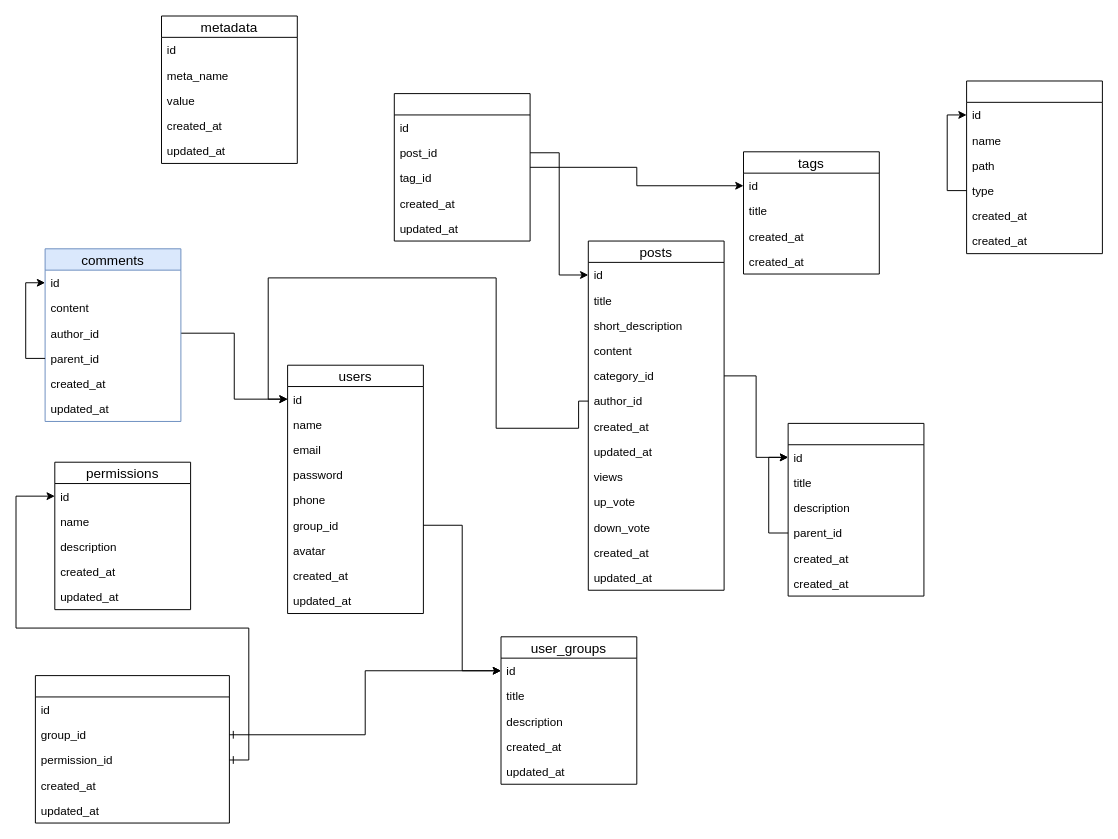
The diagram is 1118 pixels wide and 839 high, and some of its shapes have lost their labels. The box of each missing label's shape, as (x1, y1, x2, y2) in pixels:
categories: (787, 422, 924, 596)
images: (966, 80, 1102, 254)
permissions__user_groups: (34, 675, 229, 823)
posts_tags: (393, 93, 530, 241)
